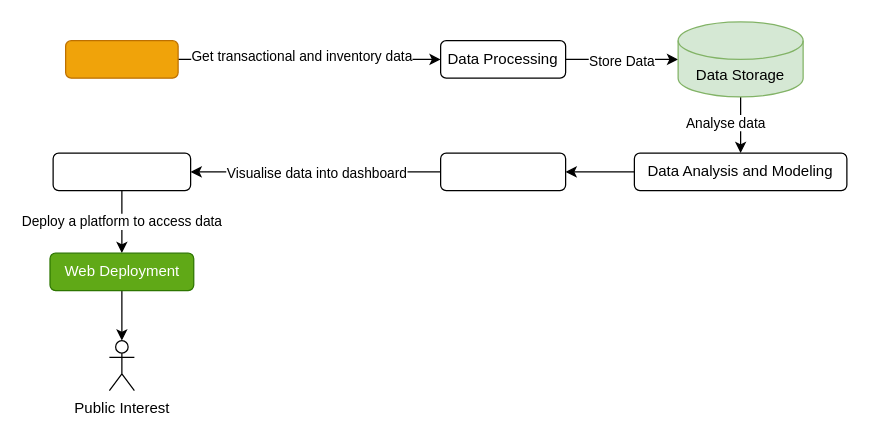
This 869x439 diagram has some shape labels left out. The centre of each missing label's shape, as x and y in pixels:
Data Sources: point 121,58
User Interface: point 121,171
Visualization: point 502,171
